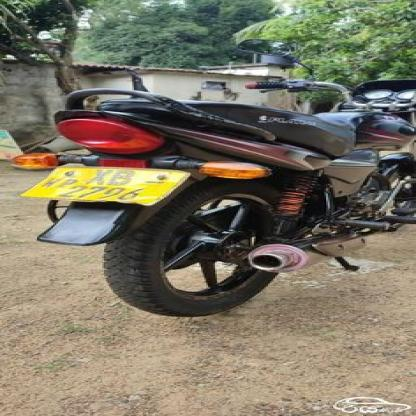bike back: (1, 38, 416, 319)
number plate: (36, 164, 159, 202)
